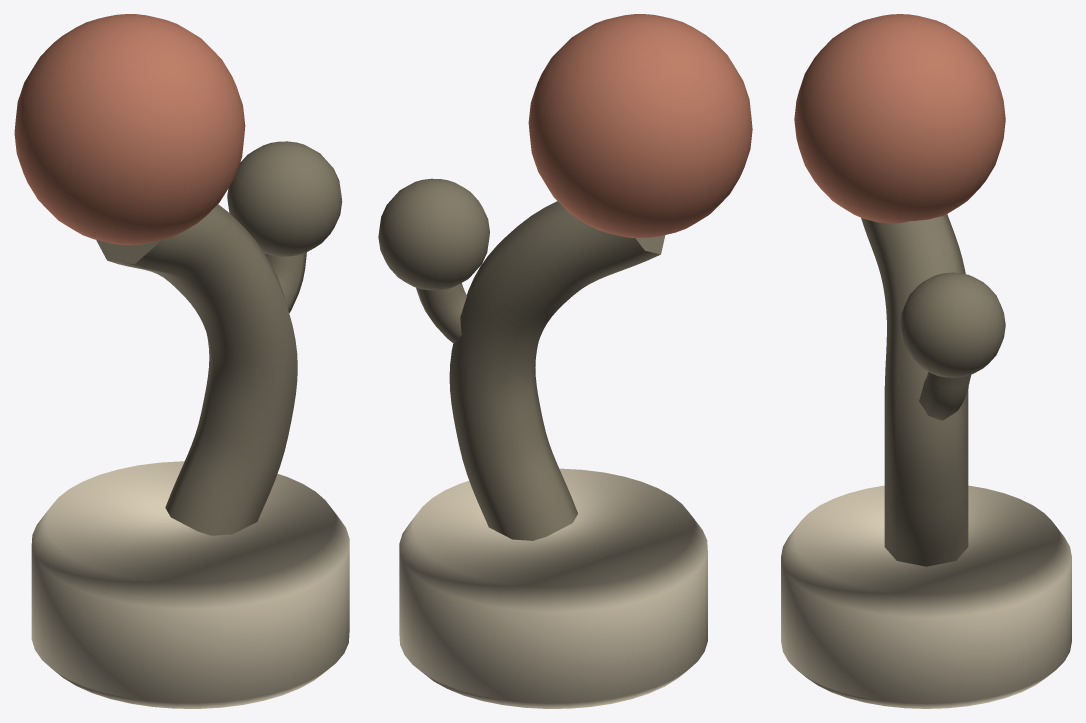
File: sculpture.balance-new.glb
3 views of the same model, side by side, from view 1: azimuth 30°, elevation 25°; view 2: azimuth 150°, elevation 25°; view 3: azimuth 270°, elevation 25° (orthographic). The views are drawn at different scales.
Parts seen in each view (by area): view 1: Turned limestone plinth; view 2: Turned limestone plinth; view 3: Turned limestone plinth.
Boxes of the visible parts, x1,y1,x2,y2 form: Turned limestone plinth: (14, 14, 349, 708); Turned limestone plinth: (378, 14, 752, 708); Turned limestone plinth: (781, 14, 1071, 708).
Size of the model in its own units: 0.8 by 1.49 by 0.66.
